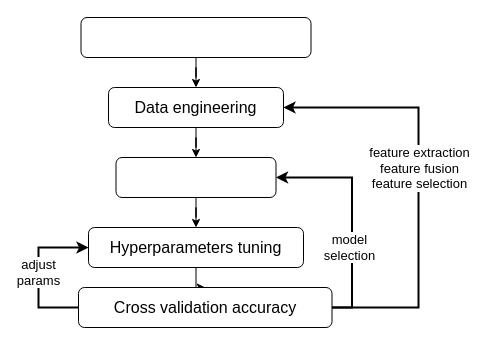
This 486x345 diagram has some shape labels left out. Each missing label, with the box of its shape:
Data cleaning & exploration: (80, 16, 311, 58)
Model building: (115, 156, 276, 198)
